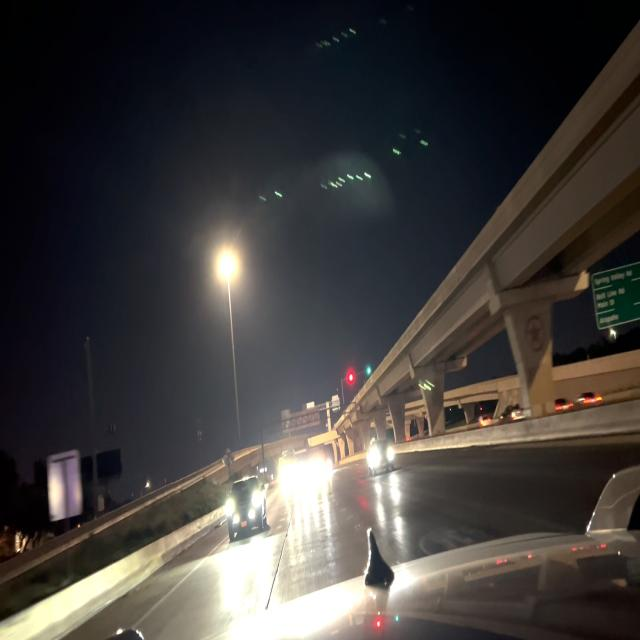back-of-sign: (44, 447, 85, 527), (281, 404, 323, 433), (220, 443, 237, 474)
